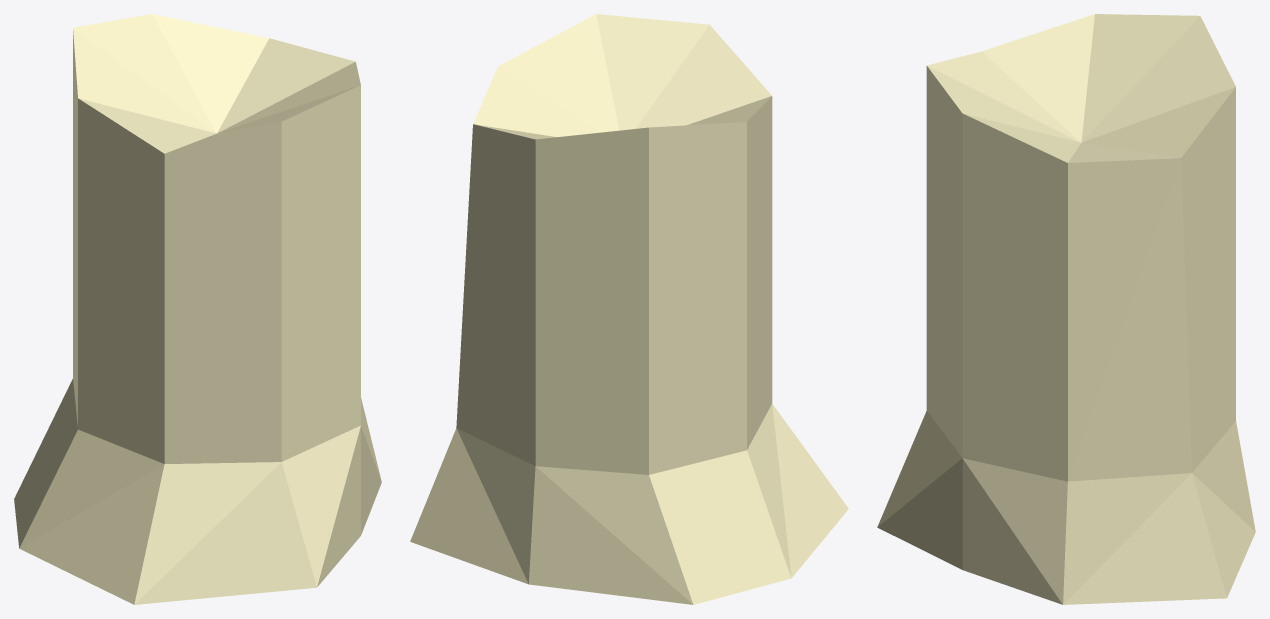
File: Prop_Gothic_Candle_02.FBX
3 renders of one model, left to right at view 1: azimuth 30°, elevation 25°; view 2: azimuth 150°, elevation 25°; view 3: azimuth 270°, elevation 25°, orthographic. The views are drawn at different scales.
Parts seen in each view (by area): view 1: Prop_Gothic_Candle_02; view 2: Prop_Gothic_Candle_02; view 3: Prop_Gothic_Candle_02.
Part boxes in pixels (bbox=[...]): Prop_Gothic_Candle_02: bbox=[14, 14, 381, 604]; Prop_Gothic_Candle_02: bbox=[410, 14, 848, 604]; Prop_Gothic_Candle_02: bbox=[877, 14, 1255, 604].
Size of the model in its own units: 97.84 by 128 by 93.16.
